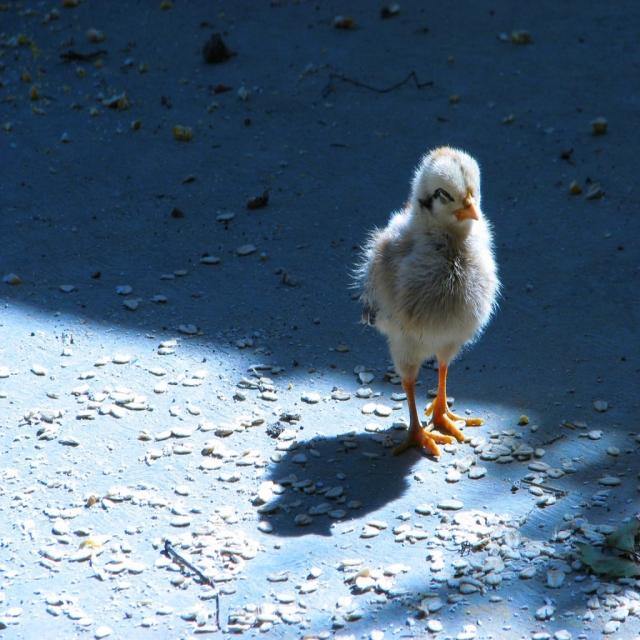Chicken: (364, 151, 501, 449)
